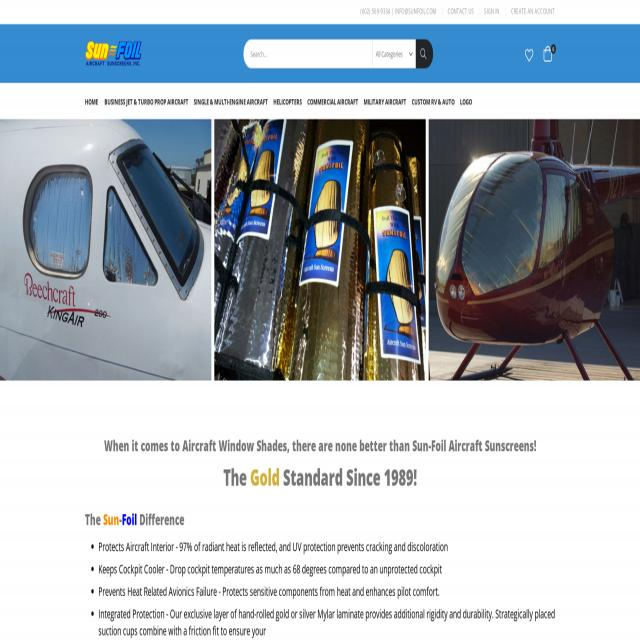button: (85, 40, 141, 66), (416, 39, 433, 68), (523, 44, 535, 64)
field: (243, 39, 433, 68), (372, 39, 416, 68)
